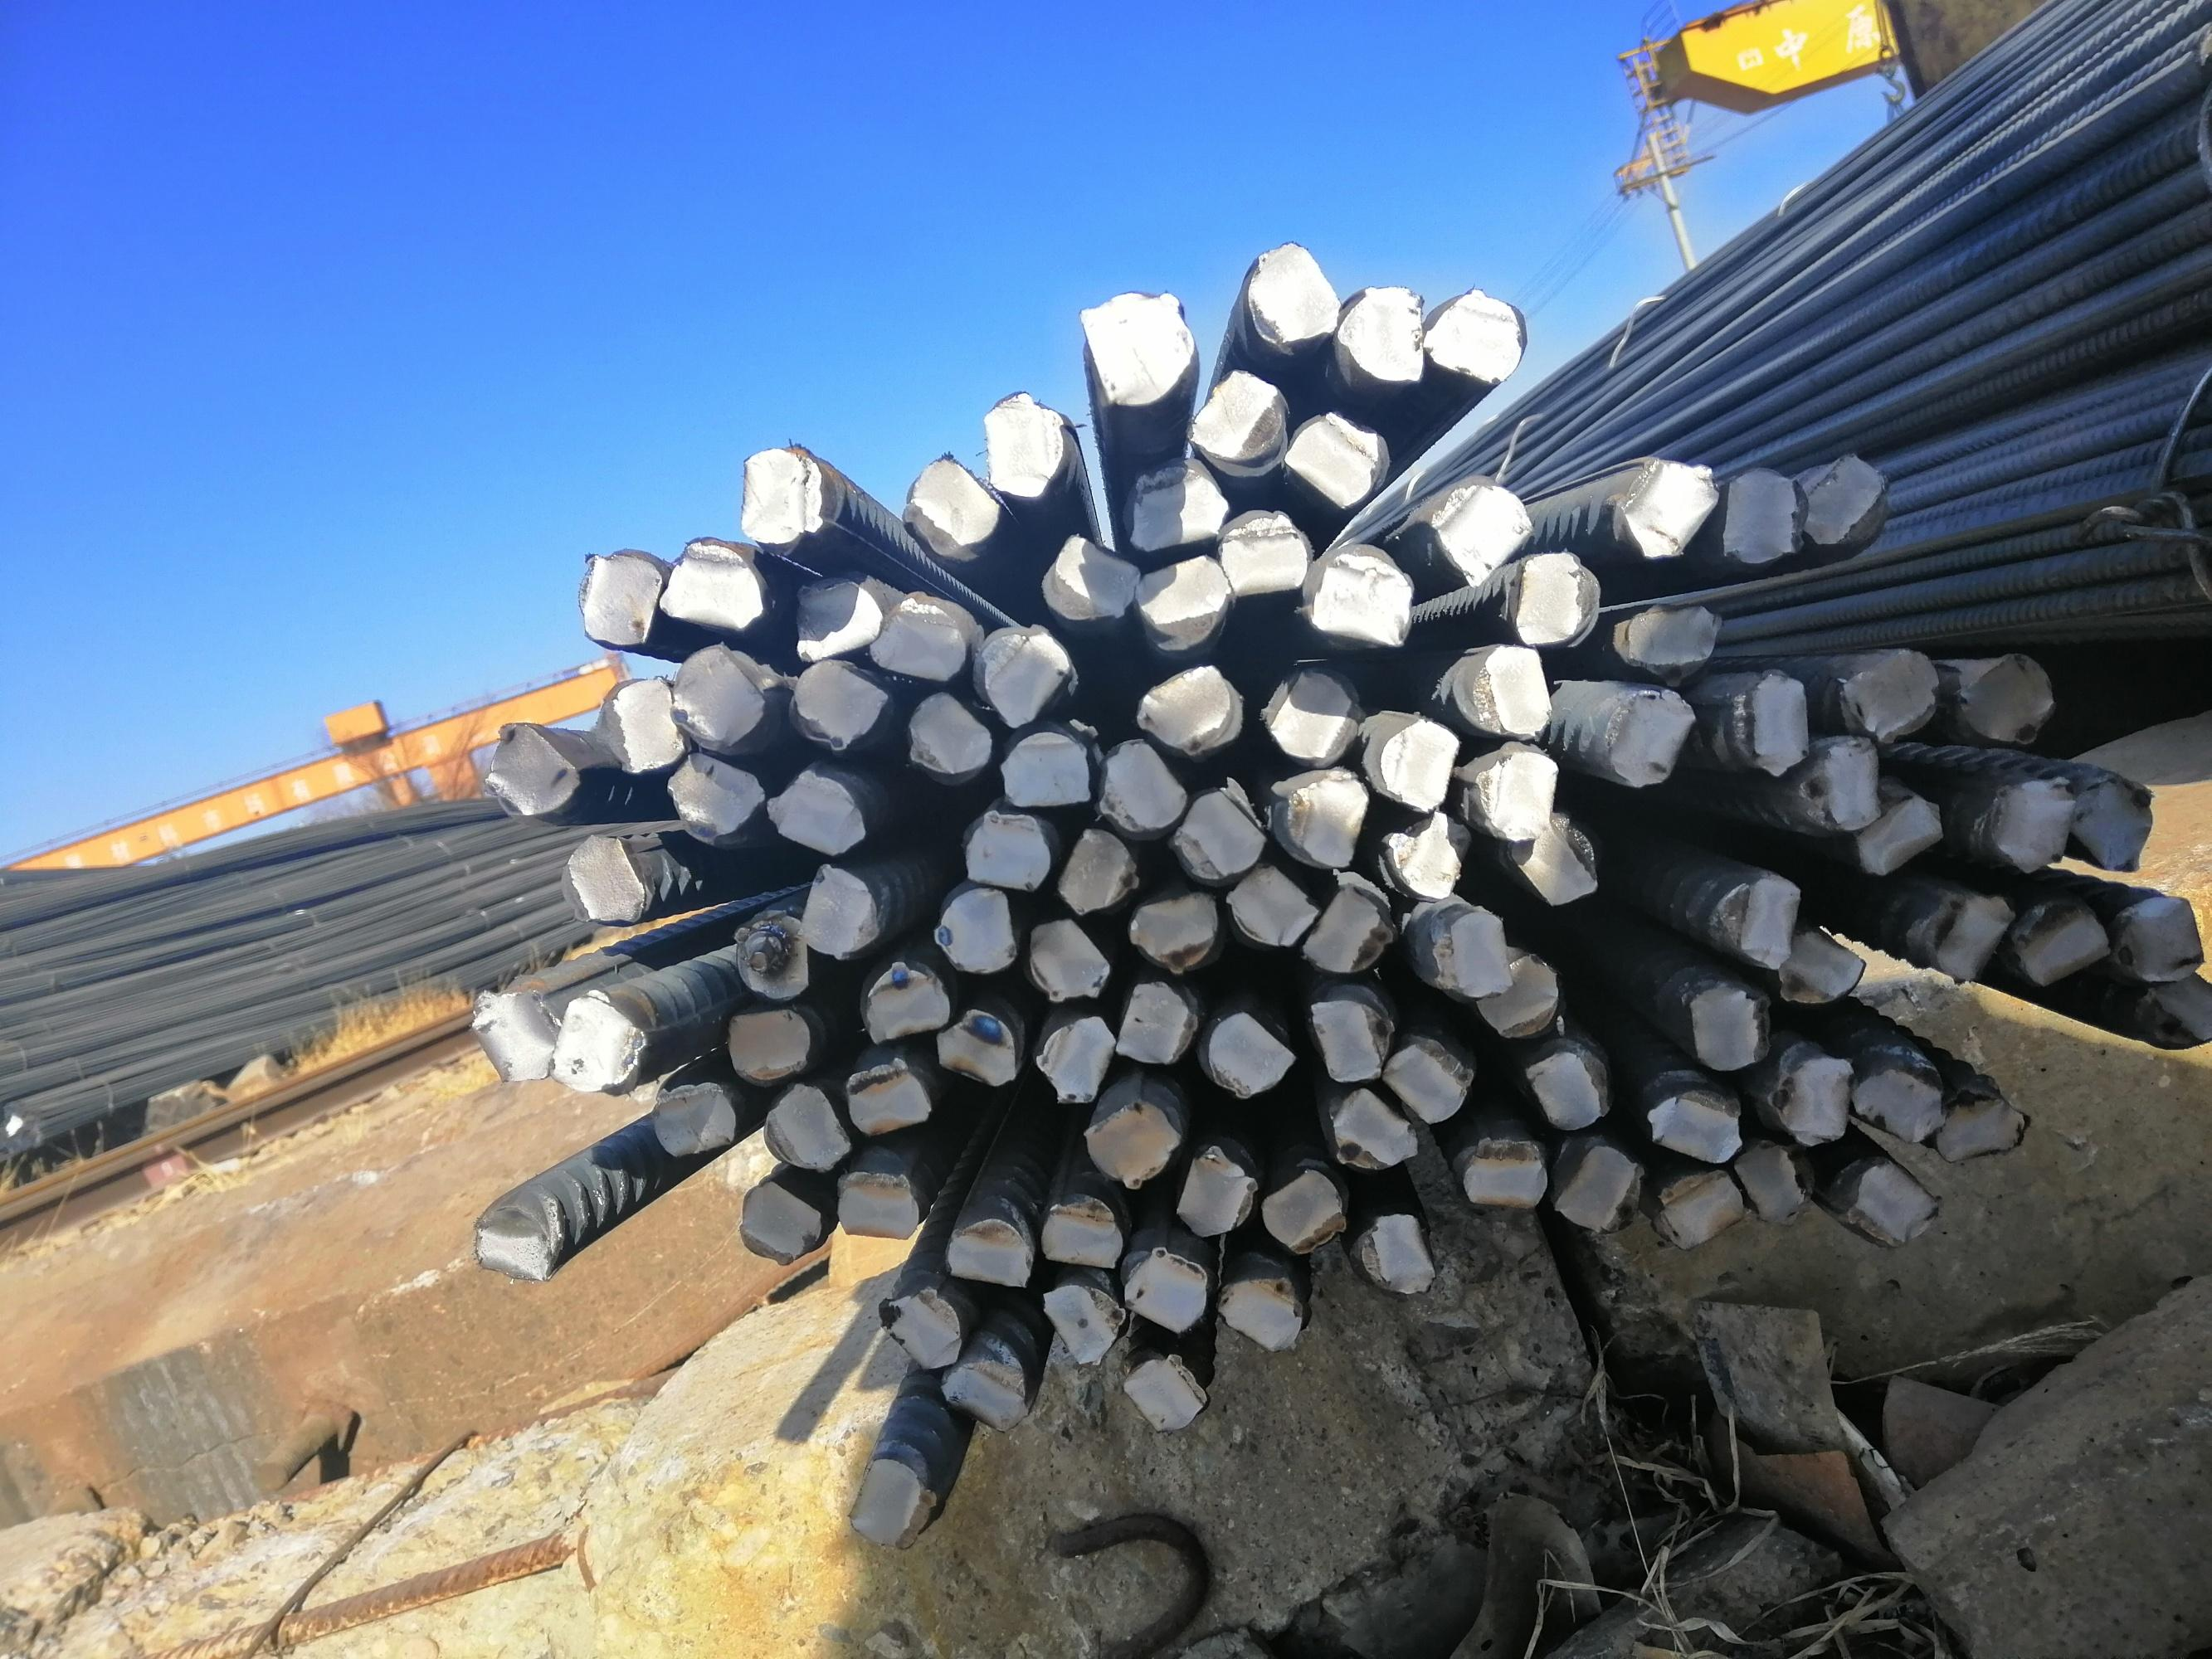bar: (1074, 284, 1198, 415), (1229, 227, 1342, 345), (1300, 538, 1414, 652), (1424, 469, 1532, 586), (1417, 282, 1530, 392), (1612, 448, 1720, 559), (1126, 552, 1236, 657), (485, 718, 587, 828), (655, 535, 769, 634), (905, 451, 1004, 565), (542, 986, 640, 1101), (1593, 683, 1698, 789), (976, 382, 1069, 502), (1276, 408, 1386, 509), (591, 671, 694, 777), (1839, 1154, 1942, 1260), (671, 643, 772, 751), (976, 624, 1079, 728), (1131, 660, 1239, 760), (1117, 458, 1232, 551), (762, 760, 870, 857), (1832, 641, 1942, 737), (1276, 772, 1377, 875), (1910, 878, 2012, 981), (1034, 525, 1142, 620), (1958, 648, 2057, 751), (753, 1075, 851, 1180), (1081, 1094, 1185, 1192), (1466, 742, 1564, 847), (1452, 643, 1555, 741), (1332, 277, 1428, 382), (556, 828, 650, 934), (465, 1185, 558, 1293), (1260, 662, 1360, 762), (2008, 892, 2107, 992), (465, 983, 563, 1084), (1187, 369, 1292, 464), (737, 443, 830, 547), (1508, 547, 1600, 652), (573, 545, 662, 653), (1210, 505, 1309, 601), (1731, 666, 1813, 781), (1299, 884, 1396, 979), (1677, 972, 1769, 1073), (870, 591, 971, 683), (1028, 1011, 1119, 1114), (1982, 772, 2073, 875), (661, 748, 765, 836), (1166, 1143, 1257, 1244), (798, 859, 887, 962), (1719, 467, 1808, 570), (1170, 786, 1264, 882), (849, 1452, 940, 1551), (1302, 988, 1389, 1091), (1797, 734, 1884, 836), (1095, 734, 1187, 829), (791, 660, 887, 753), (877, 1277, 959, 1385), (859, 948, 957, 1039), (933, 882, 1020, 983), (1616, 601, 1726, 681), (716, 1000, 819, 1086), (830, 1155, 924, 1248), (1327, 1080, 1419, 1175), (1381, 1033, 1475, 1126), (1260, 1166, 1351, 1262), (924, 1004, 1020, 1094), (1764, 1051, 1855, 1147), (790, 568, 885, 659), (1203, 1006, 1292, 1103), (1126, 882, 1218, 974), (645, 1072, 739, 1162), (1121, 1244, 1210, 1340), (1030, 1194, 1128, 1281), (2073, 772, 2156, 873), (1386, 809, 1476, 901), (1121, 1344, 1210, 1438), (1471, 950, 1565, 1039), (901, 685, 995, 774), (1021, 917, 1119, 1002), (994, 725, 1091, 810), (1112, 972, 1196, 1072), (1454, 1126, 1553, 1209), (1720, 870, 1804, 969), (1776, 927, 1876, 1011), (1374, 714, 1457, 814), (1520, 1039, 1609, 1131), (1853, 1053, 1945, 1141), (1032, 1279, 1126, 1366), (1349, 1202, 1436, 1297), (1551, 1141, 1639, 1236), (1644, 1087, 1748, 1166), (1652, 1164, 1748, 1249), (940, 1213, 1037, 1297), (1855, 782, 1938, 880), (1806, 450, 1886, 551), (1515, 814, 1605, 903), (1429, 903, 1513, 999), (1217, 1274, 1307, 1361), (729, 908, 816, 999), (1051, 824, 1138, 915), (1937, 1084, 2032, 1166), (962, 809, 1053, 894), (1224, 866, 1318, 948), (739, 1175, 824, 1263), (2113, 890, 2196, 979), (1733, 1133, 1808, 1230), (844, 1054, 933, 1136), (940, 1354, 1027, 1434), (2132, 971, 2210, 1054)
